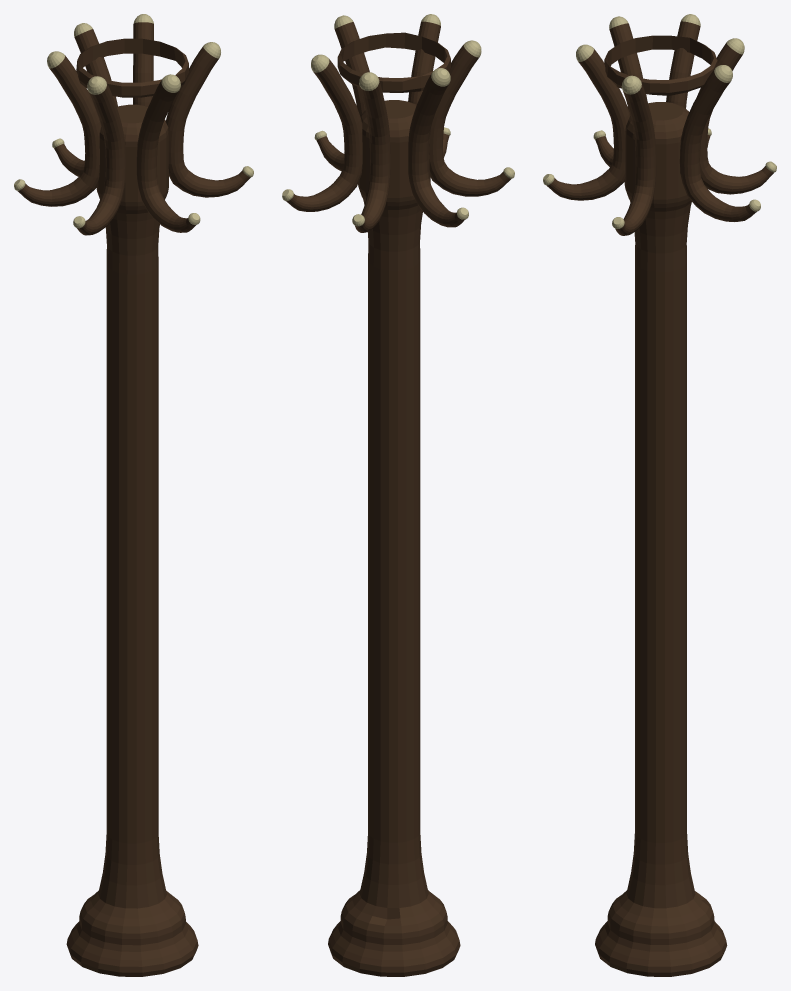
Rendered from vehakablend.fbx.
3 views of the same model, side by side, from view 1: azimuth 30°, elevation 25°; view 2: azimuth 150°, elevation 25°; view 3: azimuth 270°, elevation 25° (orthographic).
Parts seen in each view (by area): view 1: vehalka; view 2: vehalka; view 3: vehalka.
Part boxes in pixels (left/top/right/bottom): vehalka: left=14, top=14, right=253, bottom=976; vehalka: left=282, top=14, right=514, bottom=976; vehalka: left=543, top=14, right=776, bottom=976.
Size of the model in its own units: 10.28 by 45.49 by 10.65.
